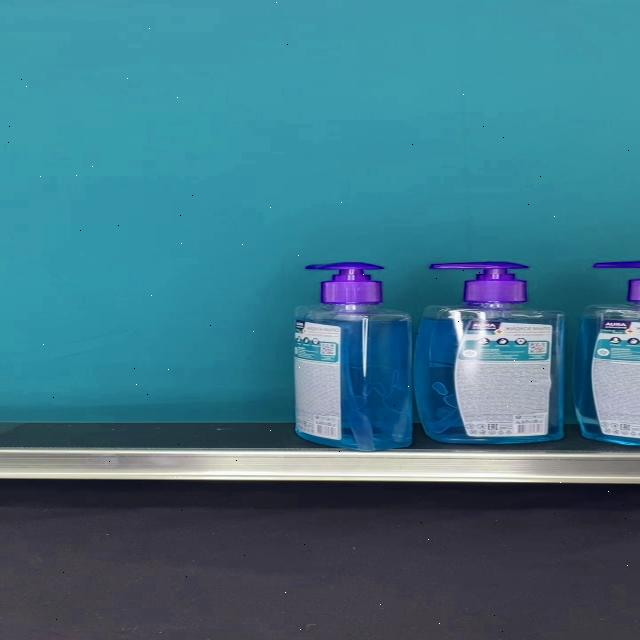Bottle: (414, 262, 564, 444), (292, 262, 413, 450)
Cap: (429, 262, 529, 303), (306, 263, 387, 304)
